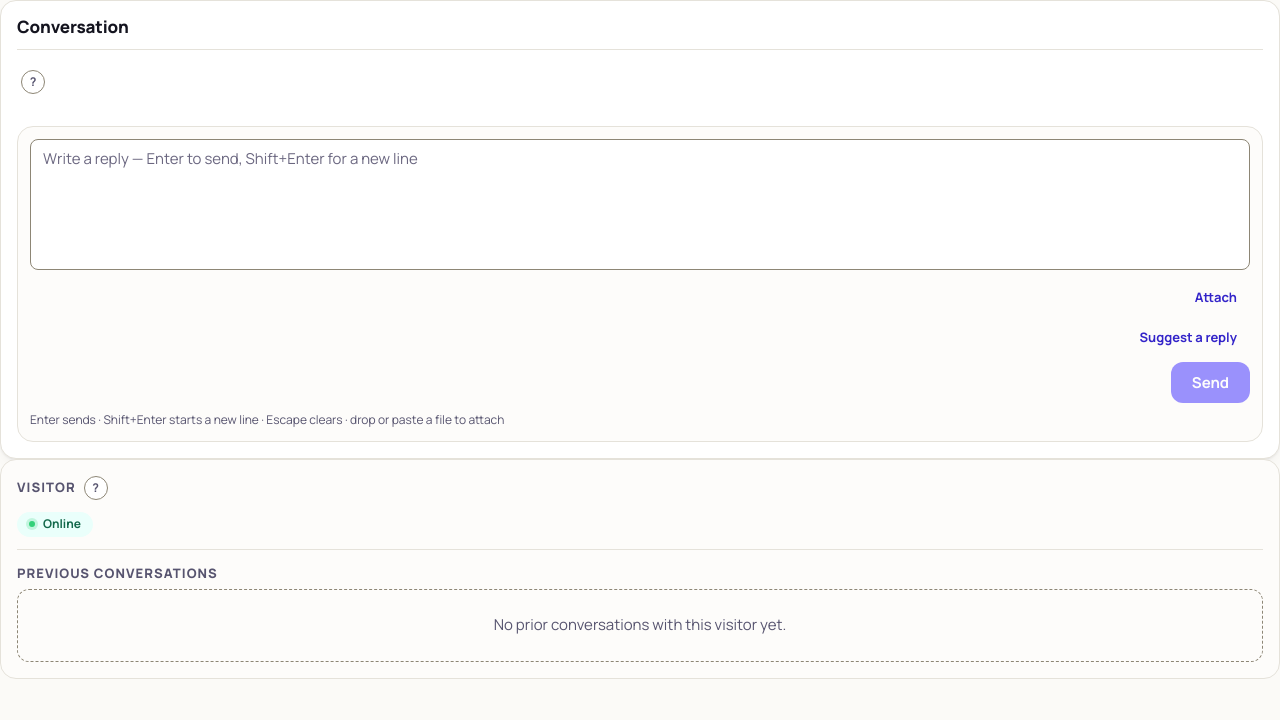
Test: suggesting a reply (19-01) › shows a rate-limit-specific message and leaves the draft untouched when the cap is exceeded
Step 1. Click the button "Suggest a reply" → (1188,338), box [1126, 322, 1250, 354]
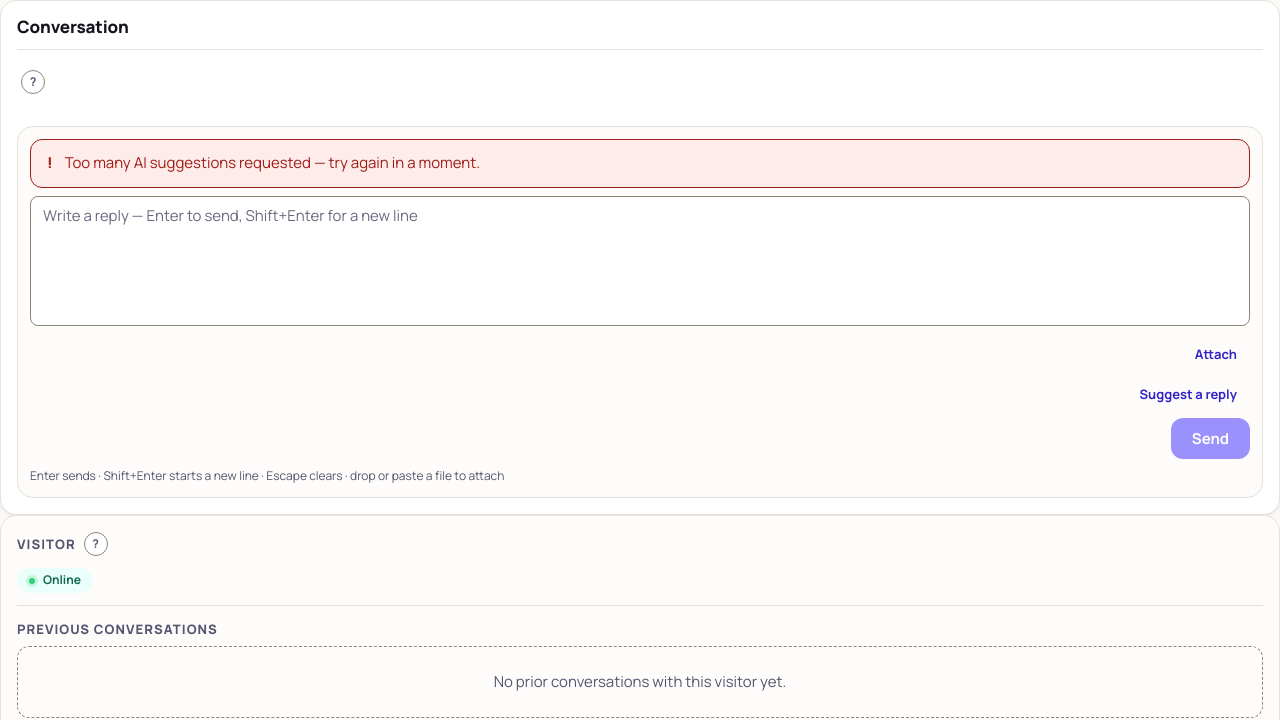
Expected: the dropdown with placeholder "Write a reply — Enter to send, Shift+Enter for a new line" is empty, [30, 196, 1250, 326]
Result: the text "Too many AI suggestions requested" is shown at [65, 152, 480, 173]
